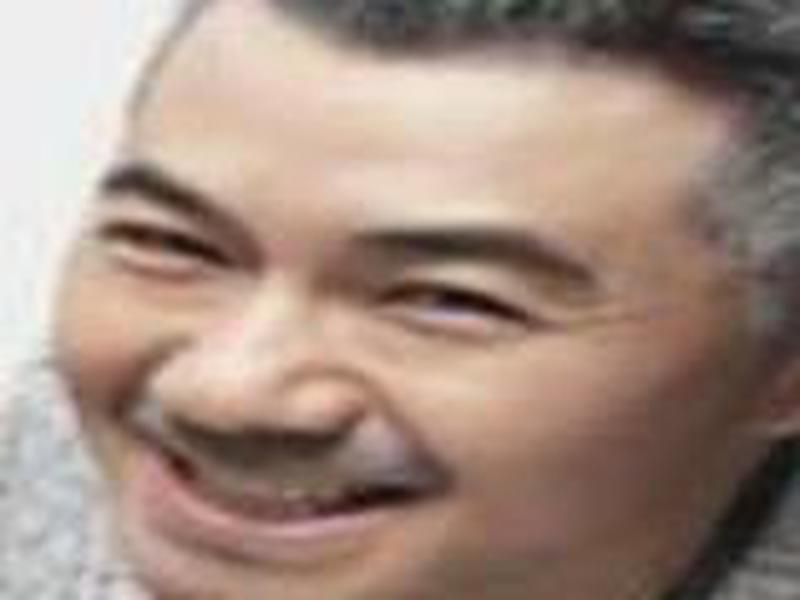without_mask: (51, 14, 720, 600)
